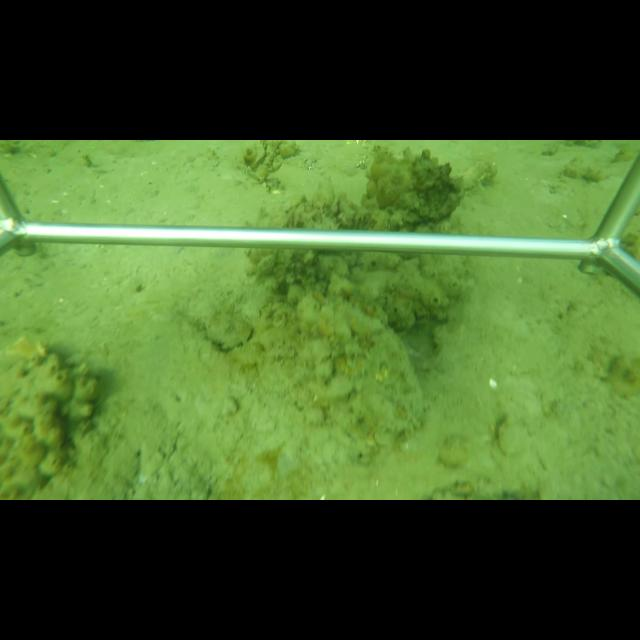Oyster-Closed: (300, 298, 428, 452), (202, 308, 256, 353)
